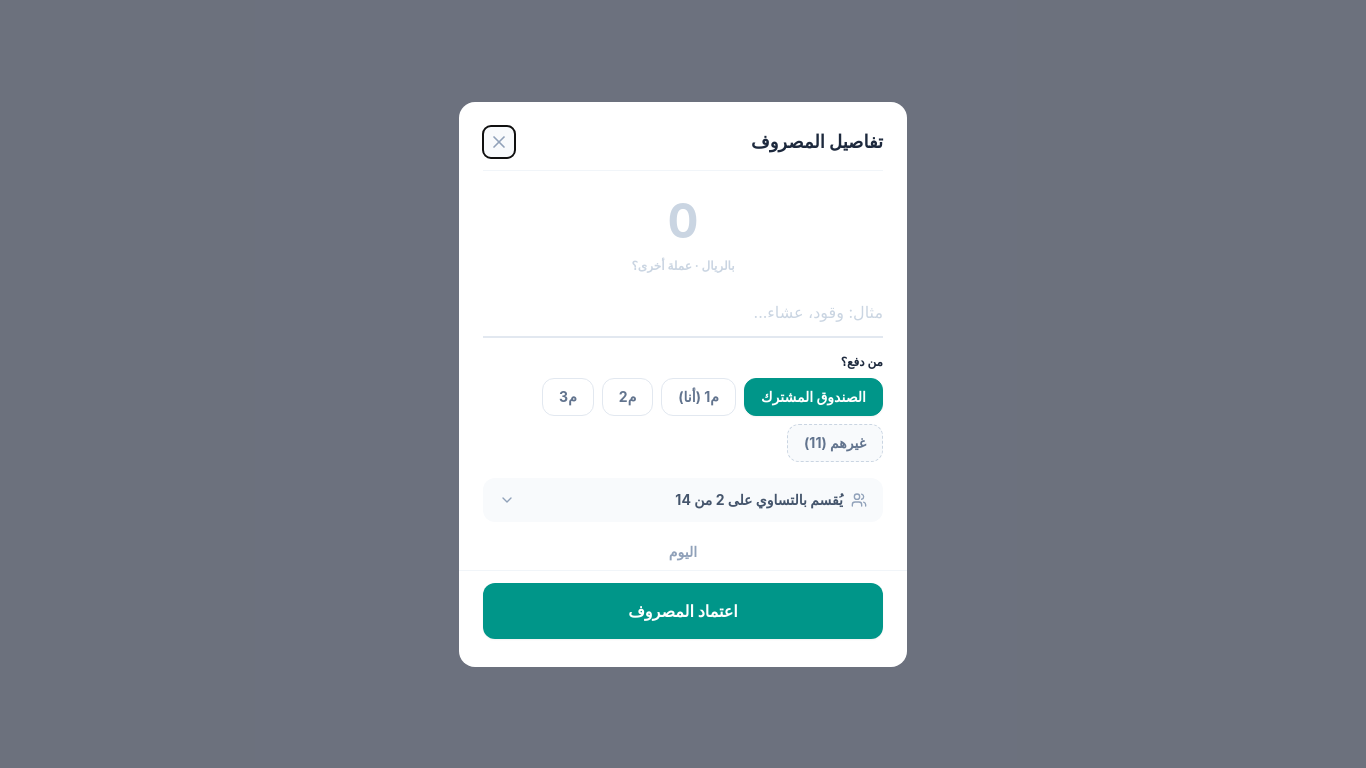
Test case: ExpenseForm — قسم الدافع لا يبتلع الشاشة في رحلة كبيرة › يكشف البقية بنقرة ويعيد طيّها بأخرى
This screenshot has width=1366, height=768.
Click the button "غيرهم (11)": (835, 442) [787, 424, 883, 462]
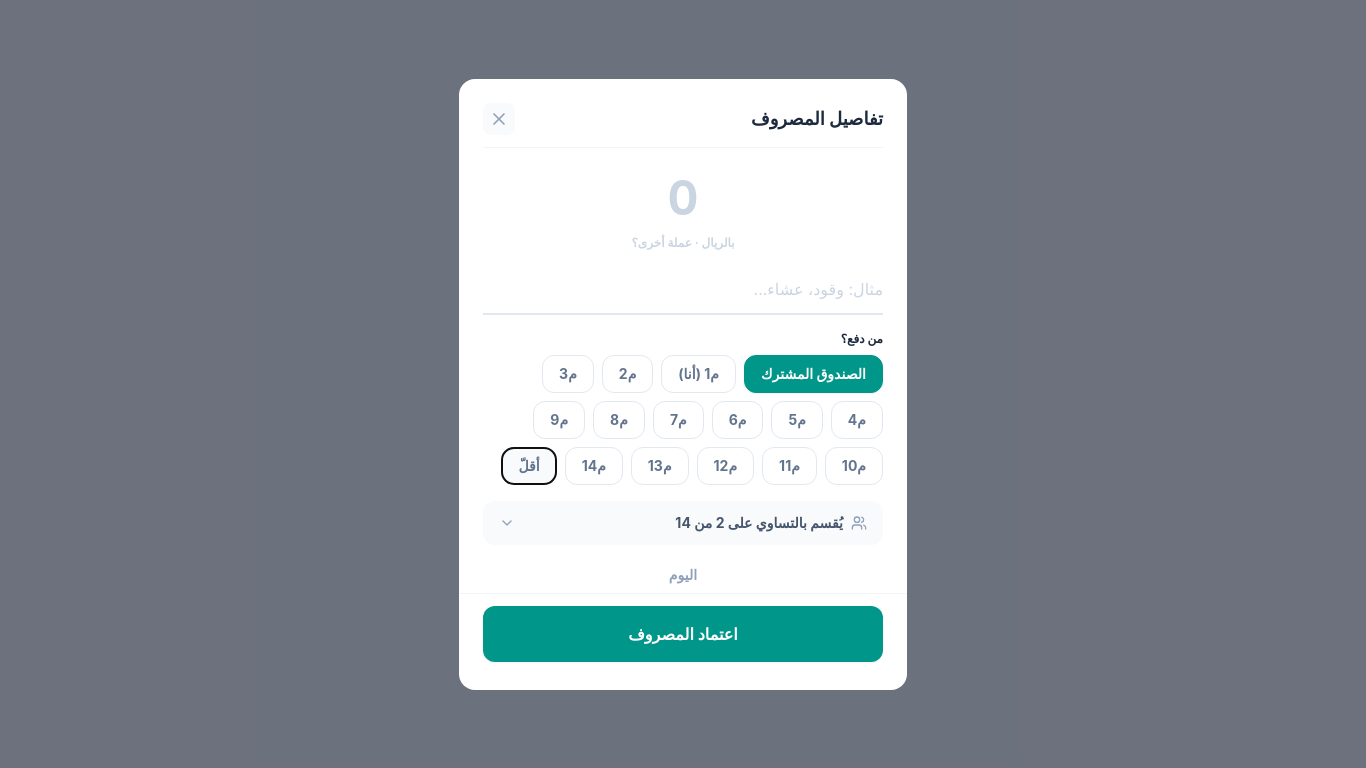
Check: the number of buttons named "دفعها " is 14
Click the button "أقلّ": (529, 466) [501, 446, 557, 484]
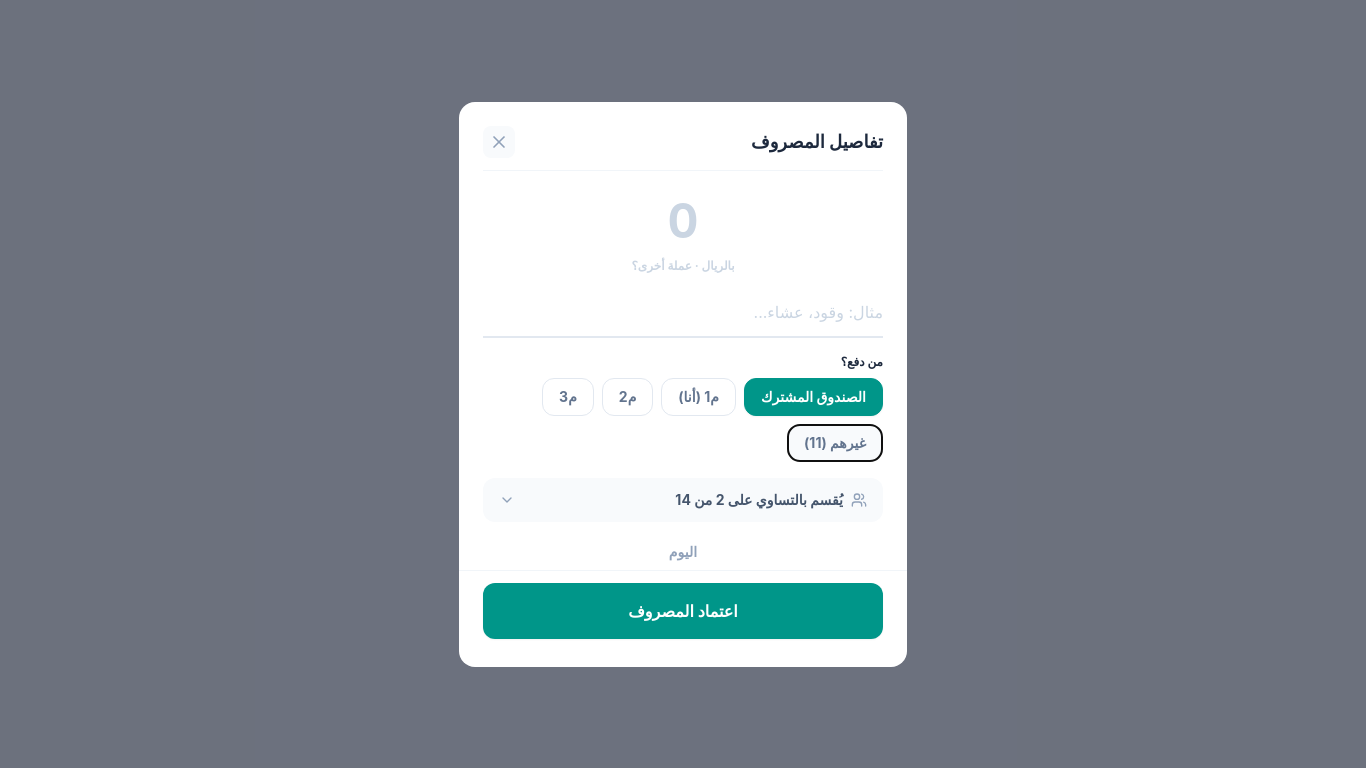
Check: the number of buttons named "دفعها " is 3, box [661, 378, 736, 416]; [602, 378, 653, 416]; [542, 378, 594, 416]
